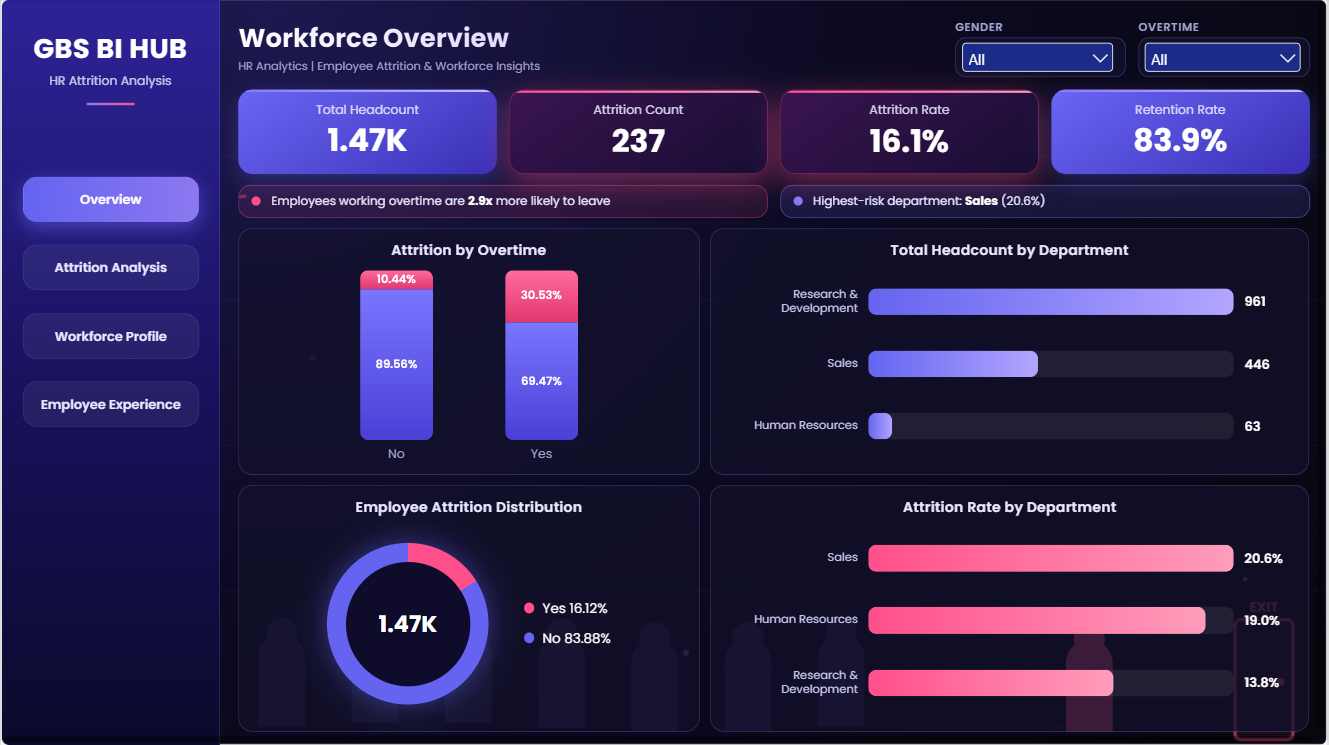

This screenshot's page, from the dashboard's own definition file:
{"tool":"powerbi","page":{"name":"Overview","canvas":[1280,720],"ordinal":1},"visuals":[{"type":"htmlContent443BE3AD55E043BF878BED274D3A6855","fields":{"content":["DAX.HR Dashboard HTML"]},"box":[0,0,1280.3,720.4],"z":0},{"type":"slicer","fields":{"Values":["Employee_Dim.Gender"]},"box":[922.9,37.4,155.6,36.2],"z":1000},{"type":"slicer","title":"Overtime","fields":{"Values":["Employee_Fact.OverTime"]},"box":[1099.1,37.4,160.5,44.6],"z":2000},{"type":"actionButton","box":[21.7,238.9,160.5,39.8],"z":3000},{"type":"actionButton","box":[21.7,305.2,174.9,39.8],"z":4000},{"type":"actionButton","box":[22.9,371.6,160.5,39.8],"z":5000}]}

Visuals, with their boxes in screenshot pixels (x1, y1, x2, y2), scaled from the page's 1280x720 canvas onto the 1329x745 screenshot:
htmlContent443BE3AD55E043BF878BED274D3A6855 - DAX.HR Dashboard HTML: {"x1": 0, "y1": 0, "x2": 1328, "y2": 744}
slicer - Employee_Dim.Gender: {"x1": 958, "y1": 39, "x2": 1120, "y2": 76}
"Overtime" slicer: {"x1": 1141, "y1": 39, "x2": 1308, "y2": 85}
actionButton: {"x1": 23, "y1": 247, "x2": 189, "y2": 288}
actionButton: {"x1": 23, "y1": 316, "x2": 204, "y2": 357}
actionButton: {"x1": 24, "y1": 385, "x2": 190, "y2": 426}
